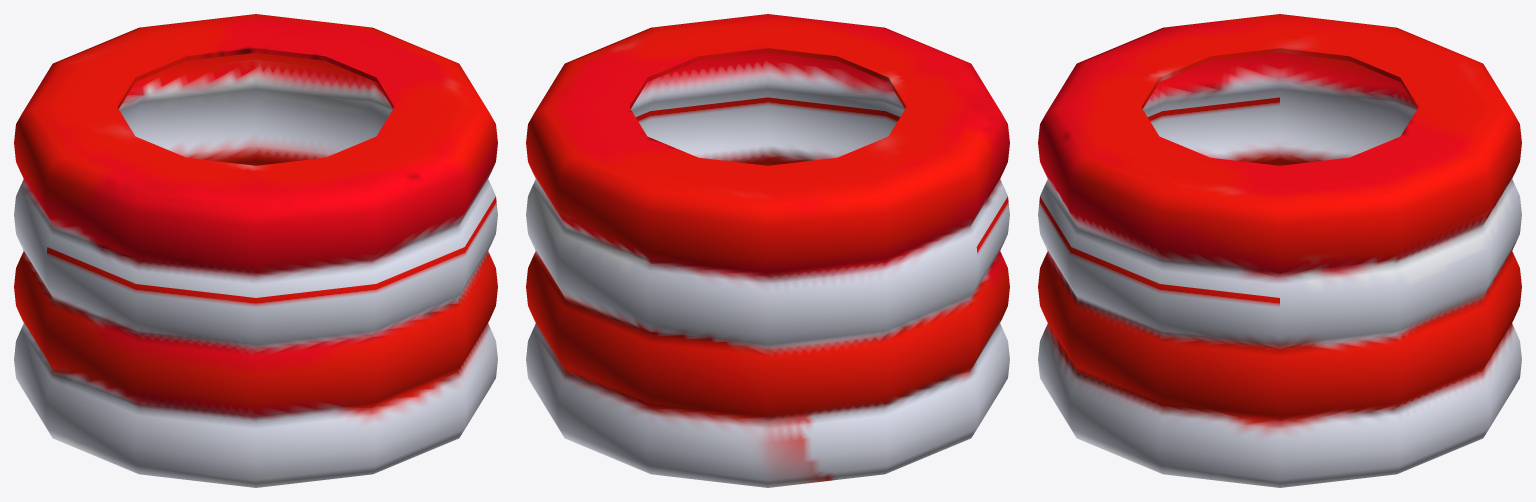
Rendered from stklib_tiresBarrier_a.fbx.
3 renders of one model, left to right at view 1: azimuth 30°, elevation 25°; view 2: azimuth 150°, elevation 25°; view 3: azimuth 270°, elevation 25°, orthographic.
Parts seen in each view (by area): view 1: stklib_tiresBarrier_a_main; view 2: stklib_tiresBarrier_a_main; view 3: stklib_tiresBarrier_a_main.
Part boxes in pixels (x1,y1,x2,y2): stklib_tiresBarrier_a_main: (14, 14, 497, 487); stklib_tiresBarrier_a_main: (526, 14, 1009, 487); stklib_tiresBarrier_a_main: (1038, 14, 1521, 487).
Size of the model in its own units: 96.66 by 63.2 by 96.27.
Materials: 1 (1 with a texture image).
